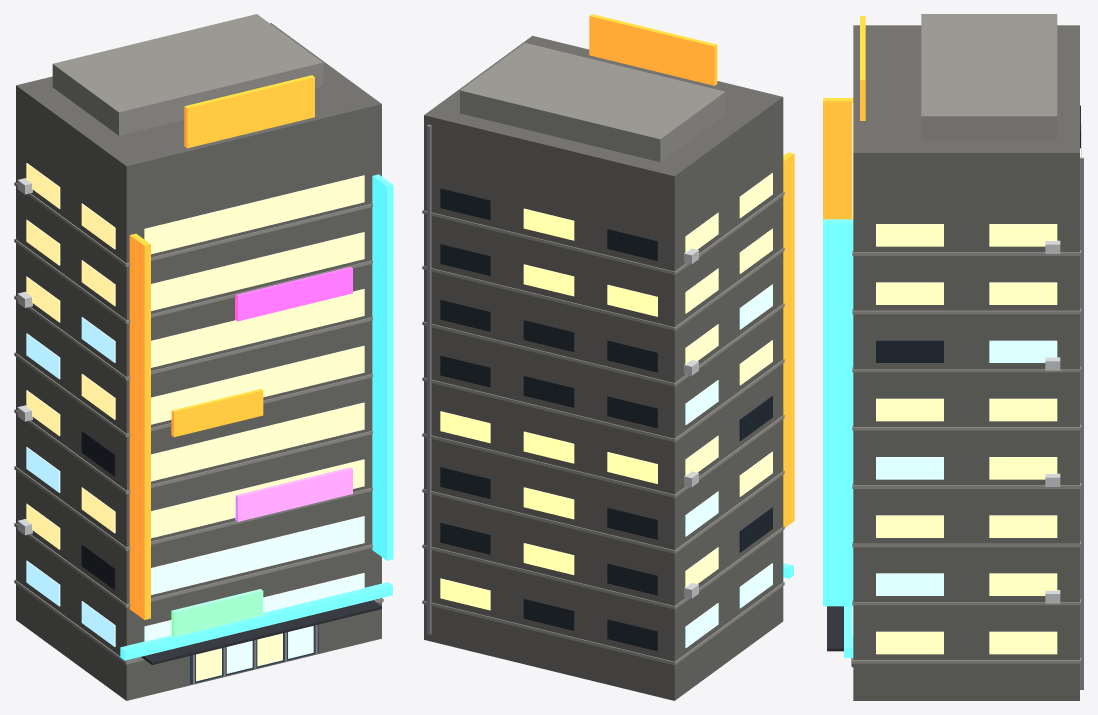
File: neonhus_3.glb
3 renders of one model, left to right at view 1: azimuth 30°, elevation 25°; view 2: azimuth 150°, elevation 25°; view 3: azimuth 270°, elevation 25°, orthographic. The views are drawn at different scales.
Visible parts, largest first — view 1: neonhus_3; view 2: neonhus_3; view 3: neonhus_3.
Boxes of the visible parts, x1=… form: neonhus_3: x1=14, y1=14, x2=393, y2=700; neonhus_3: x1=422, y1=14, x2=794, y2=700; neonhus_3: x1=823, y1=14, x2=1083, y2=700.
Bounding box in the file's own units: 17 × 34.4 × 13.8.
